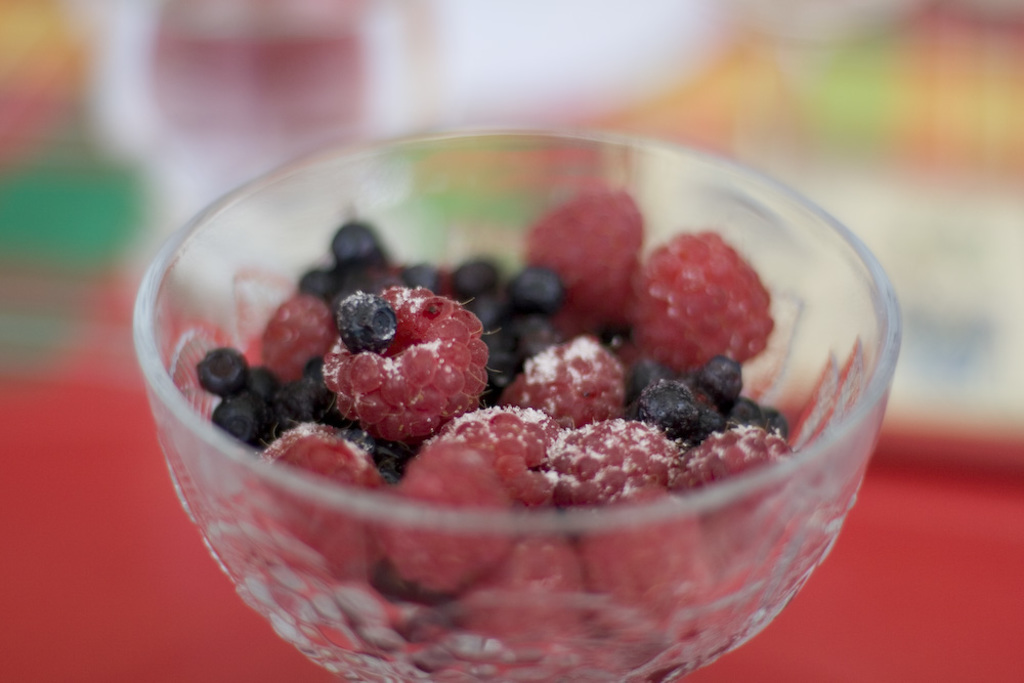person: (82, 0, 390, 232)
